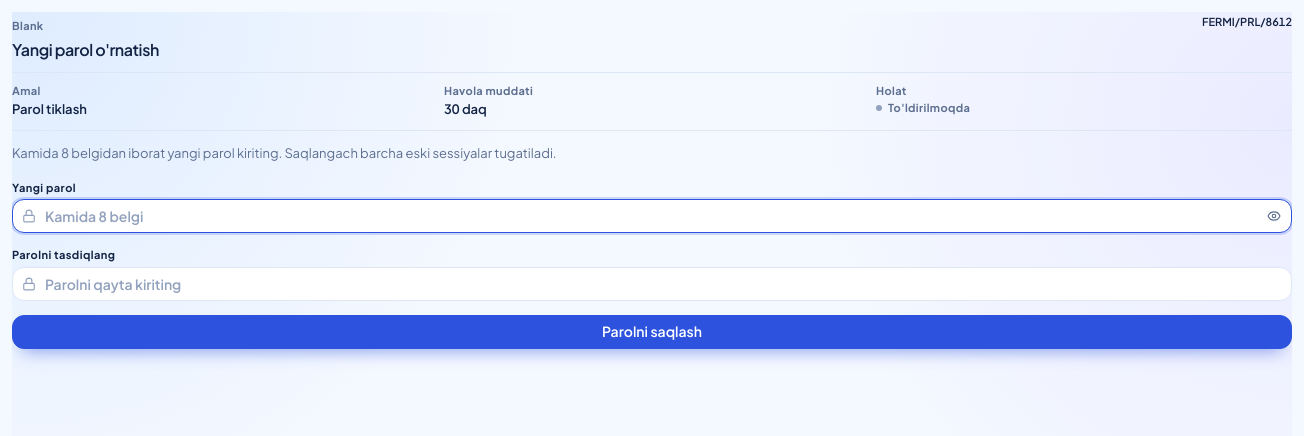
Test: ResetPasswordPage › 429 da 'qayta urinib ko'ring' deb tushuntiradi, raqam bilan emas
In the password field labelled "Yangi parol": x=652, y=216 12,199 -> 1292,233, type "parol12345"
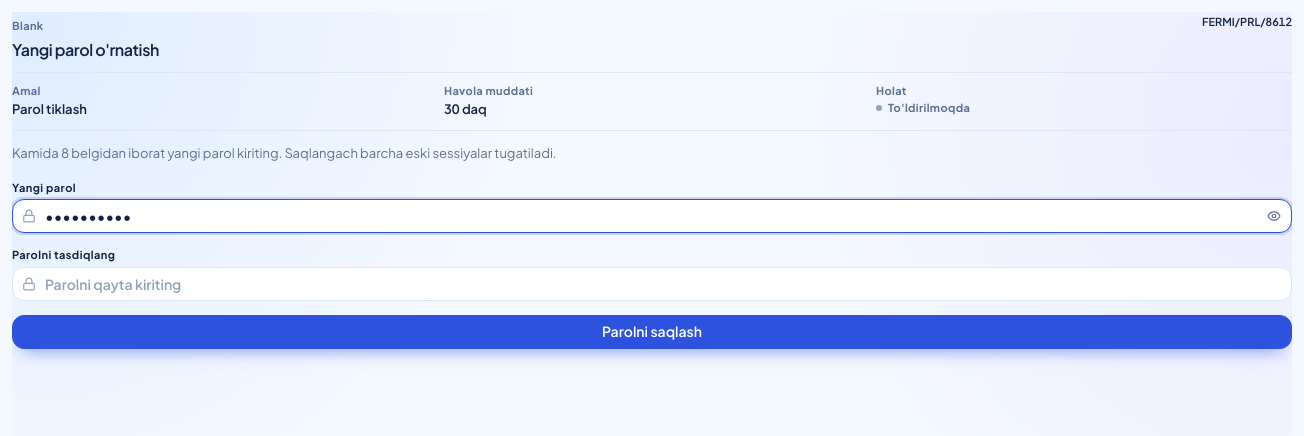
In the password field labelled "Parolni tasdiqlang": x=652, y=284 12,267 -> 1292,301, type "parol12345"
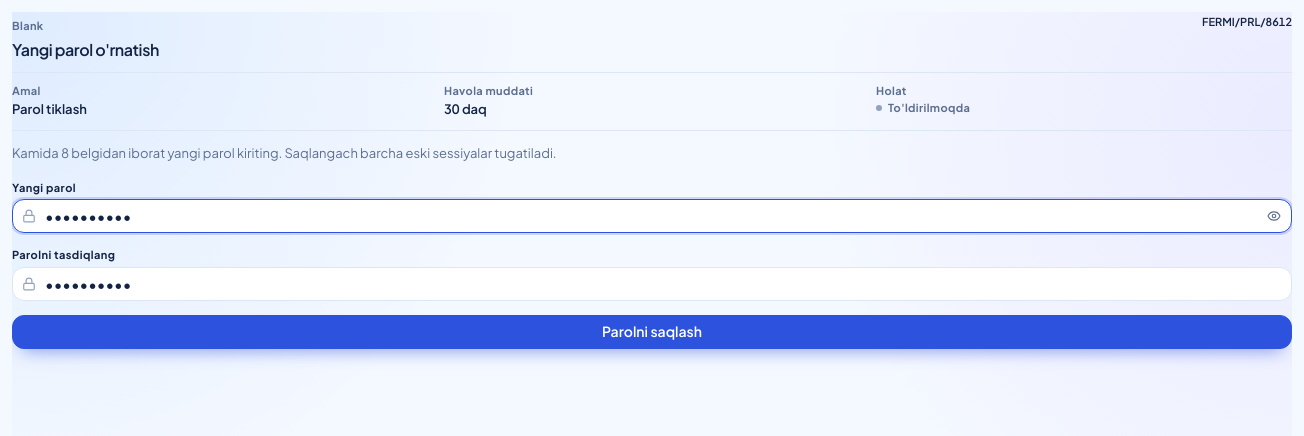
Click the button "Parolni saqlash": x=652, y=332 12,315 -> 1292,349
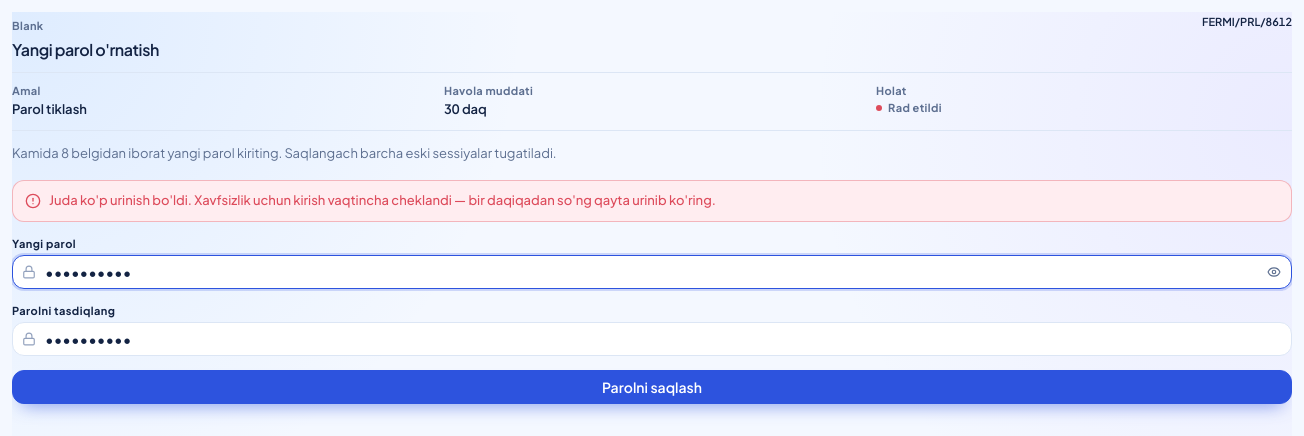
Now the message shows "bir daqiqadan so'ng", box 49,192 -> 716,208
